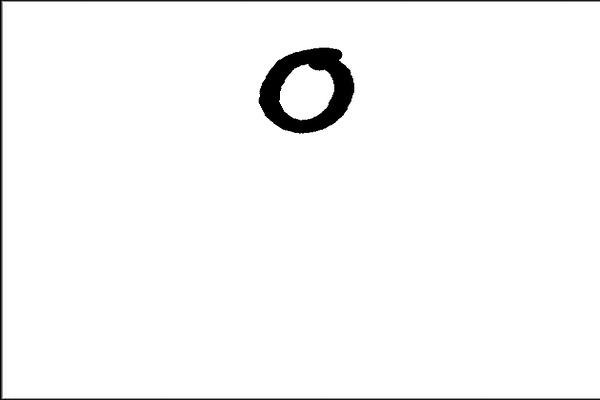O: (250, 39, 360, 141)
